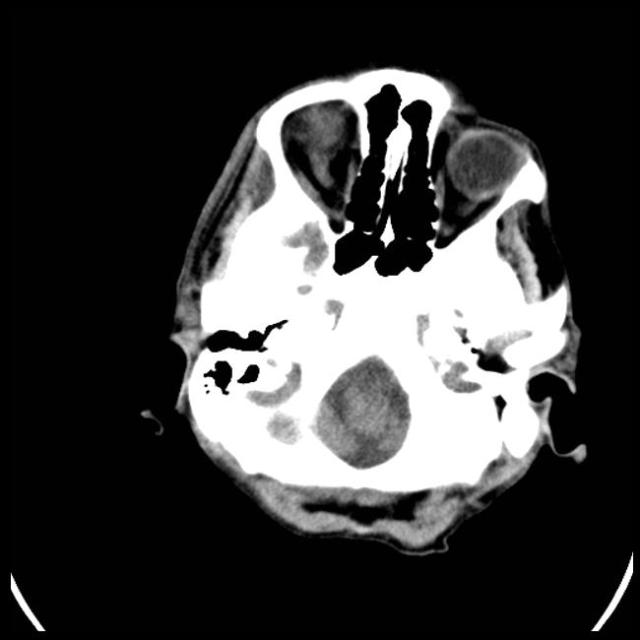lesion: (158, 63, 592, 557)
